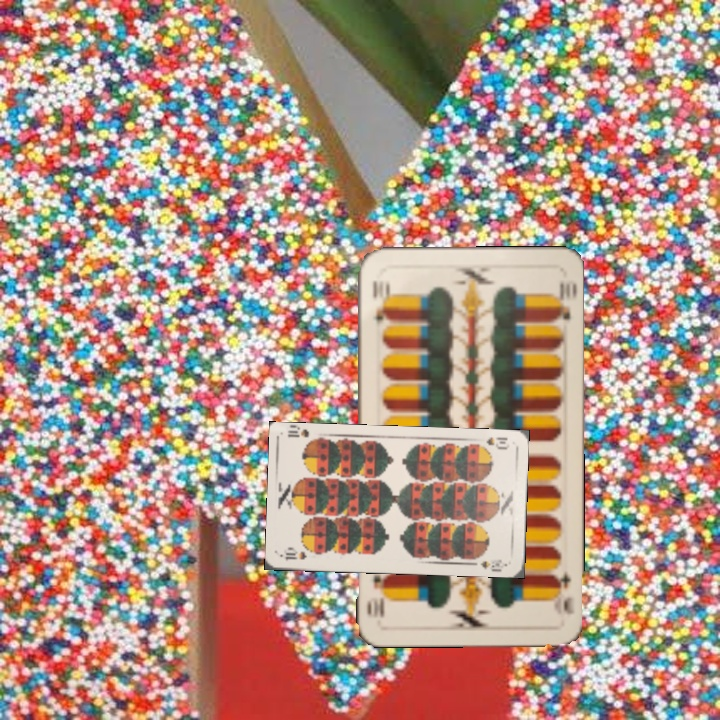E10: (549, 566, 576, 617), (368, 276, 389, 324)
S10: (472, 433, 512, 452), (281, 546, 309, 563)
